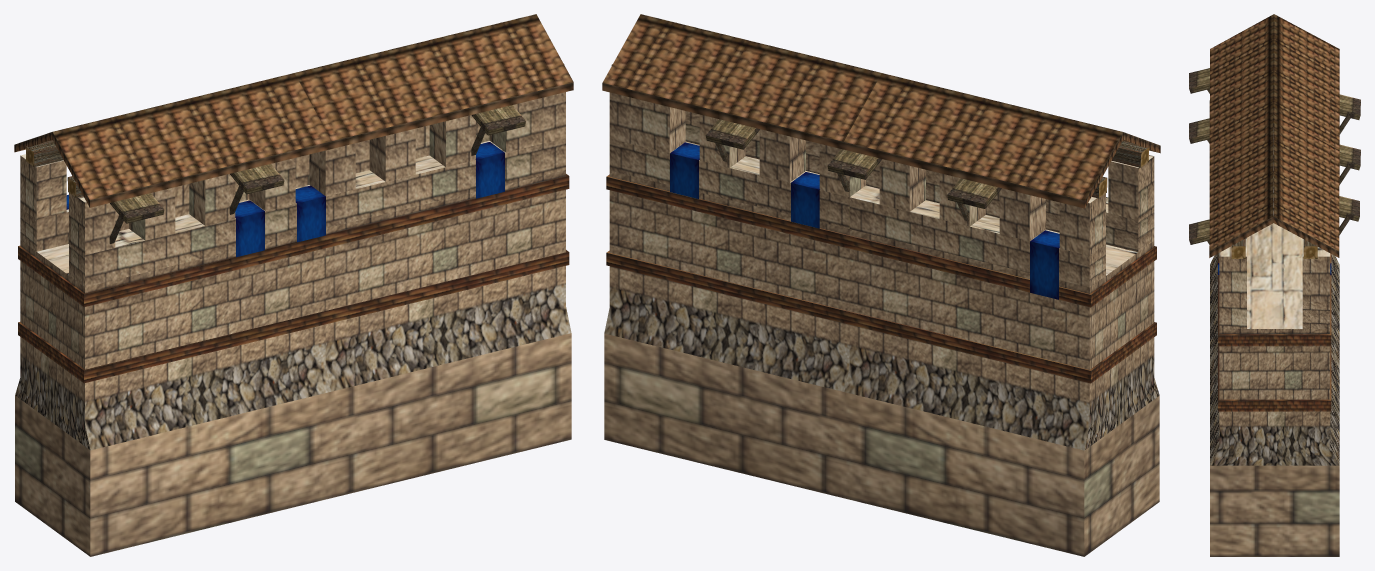
Rendered from wall_long.dae.
3 views of the same model, side by side, from view 1: azimuth 30°, elevation 25°; view 2: azimuth 150°, elevation 25°; view 3: azimuth 270°, elevation 25° (orthographic). The views are drawn at different scales.
Visible parts, largest first — view 1: wall_long; view 2: wall_long; view 3: wall_long.
Boxes of the visible parts, bbox=[...] form: wall_long: bbox=[14, 14, 573, 556]; wall_long: bbox=[602, 14, 1160, 556]; wall_long: bbox=[1189, 14, 1360, 556].
Bounding box in the file's own units: 31.33 × 11.12 × 24.38.
